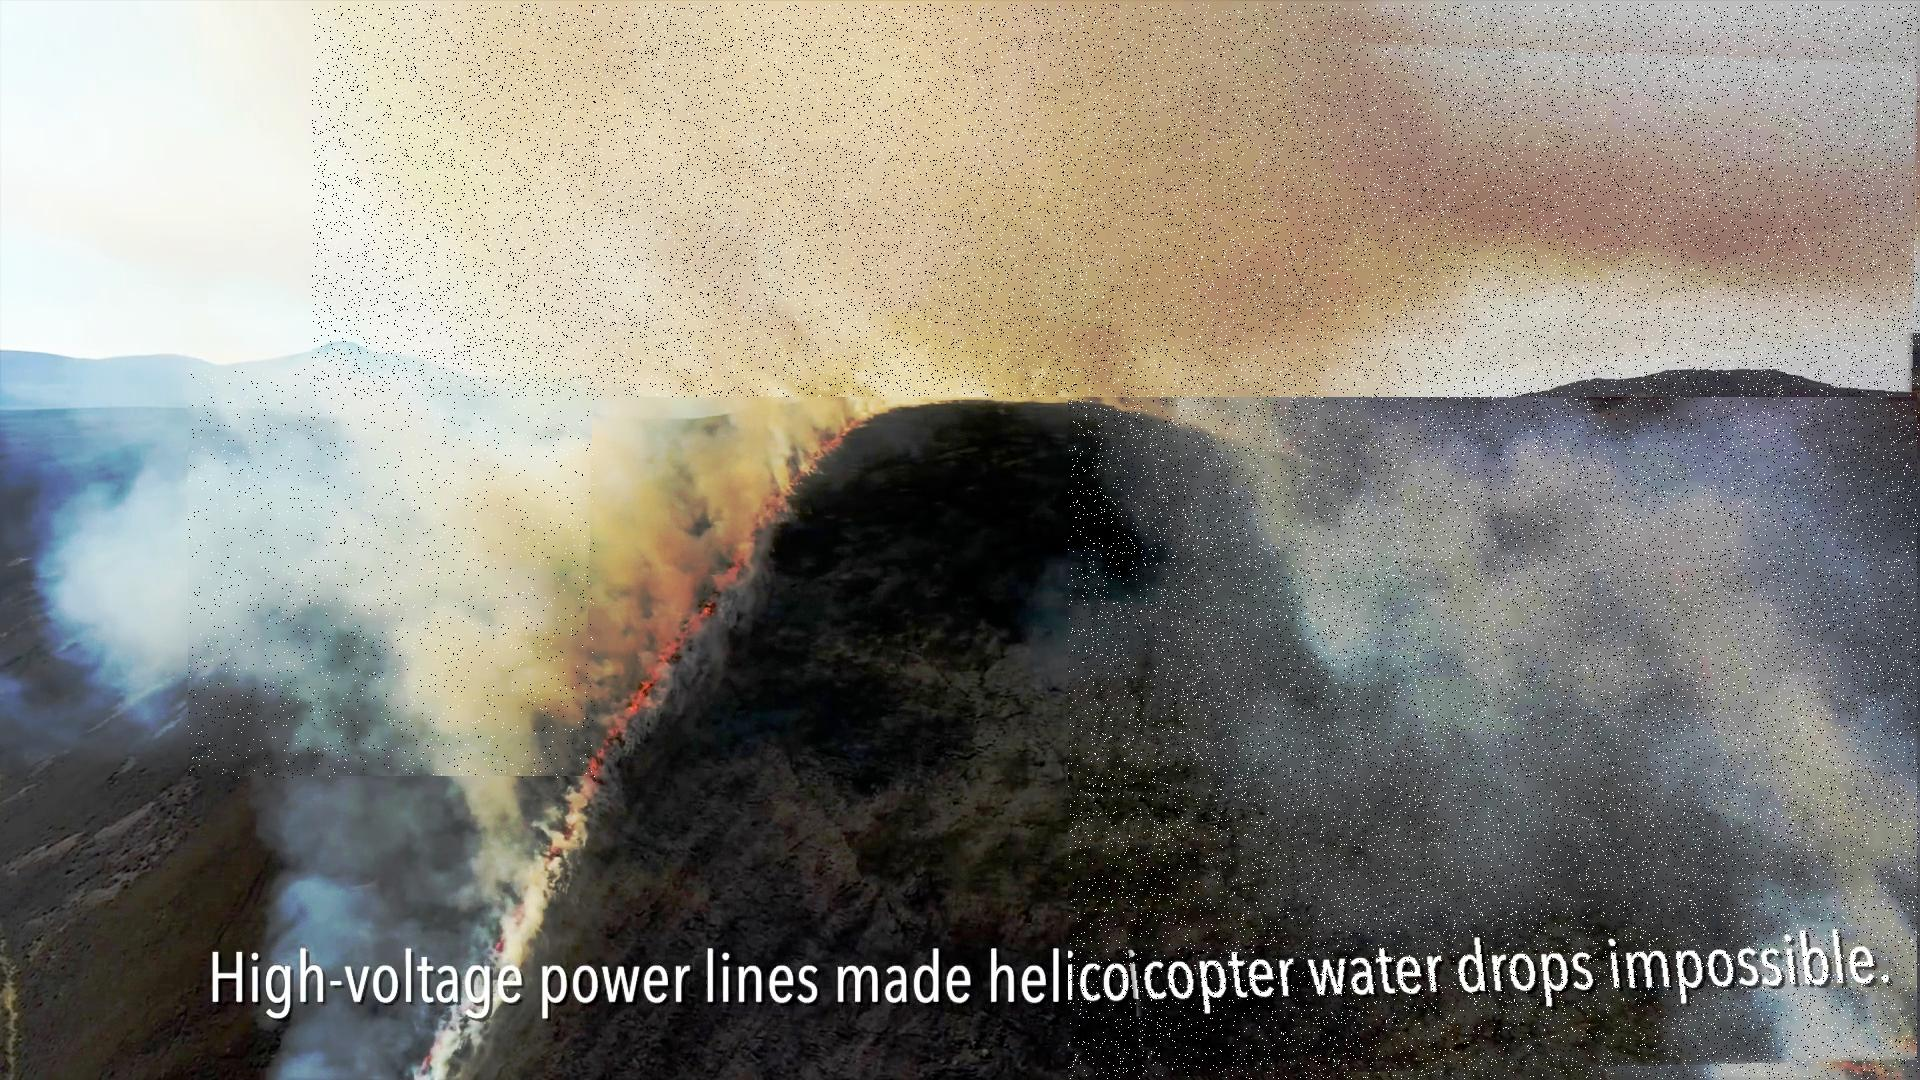smoke: (313, 4, 1920, 397), (1068, 393, 1920, 1080), (189, 369, 596, 779)
